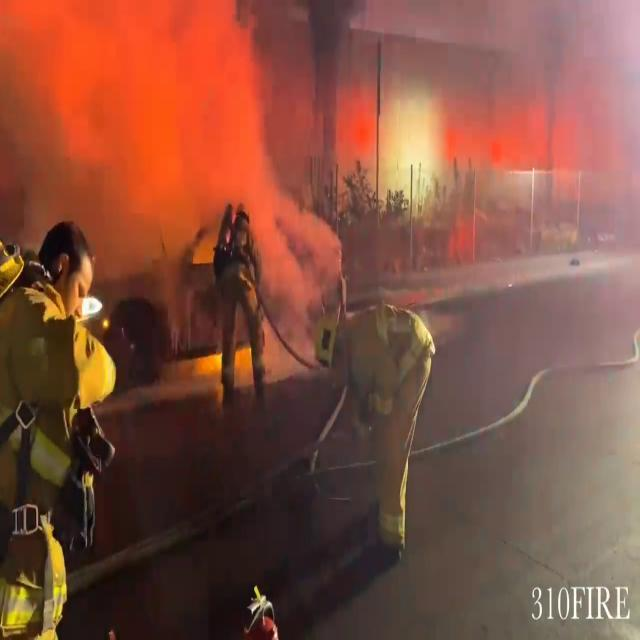Smoke: (3, 0, 290, 261)
